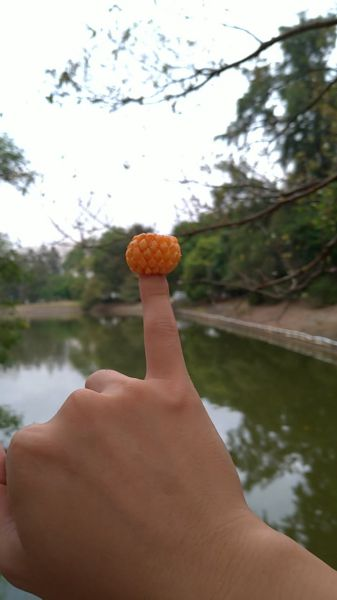eggs: (125, 234, 181, 274)
